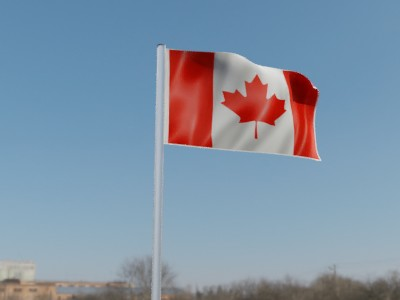Canada flag: (165, 47, 328, 163)
